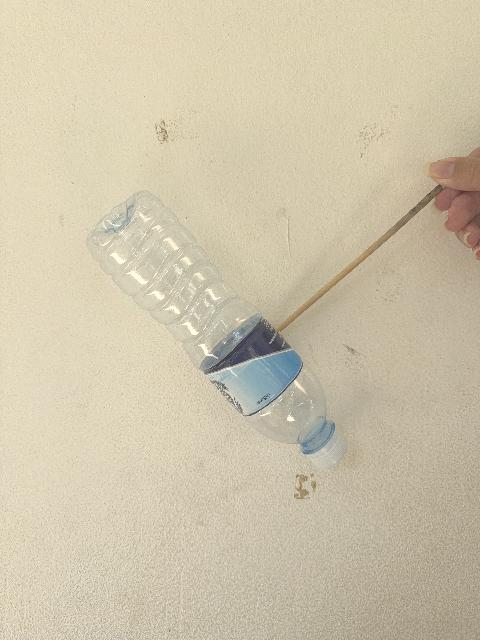bottle: (87, 192, 347, 467)
